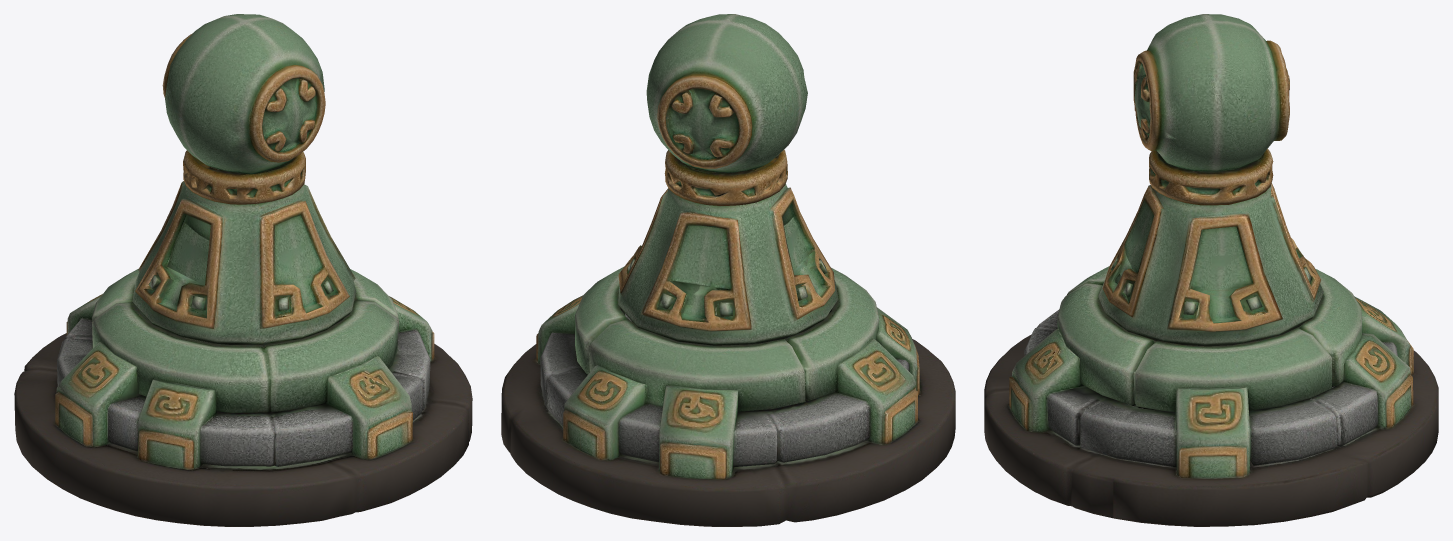
File: tripo_convert_db009881-8ba1-4a4f-9b94-e49415adc3fc.fbx
3 views of the same model, side by side, from view 1: azimuth 30°, elevation 25°; view 2: azimuth 150°, elevation 25°; view 3: azimuth 270°, elevation 25° (orthographic).
Parts seen in each view (by area): view 1: tripo_node_db009881; view 2: tripo_node_db009881; view 3: tripo_node_db009881.
Boxes of the visible parts, x1,y1,x2,y2 form: tripo_node_db009881: (14,14,472,526); tripo_node_db009881: (501,14,955,526); tripo_node_db009881: (984,14,1438,526).
Size of the model in its own units: 0.998 by 0.998 by 0.998.
1 material, 1 textured.
